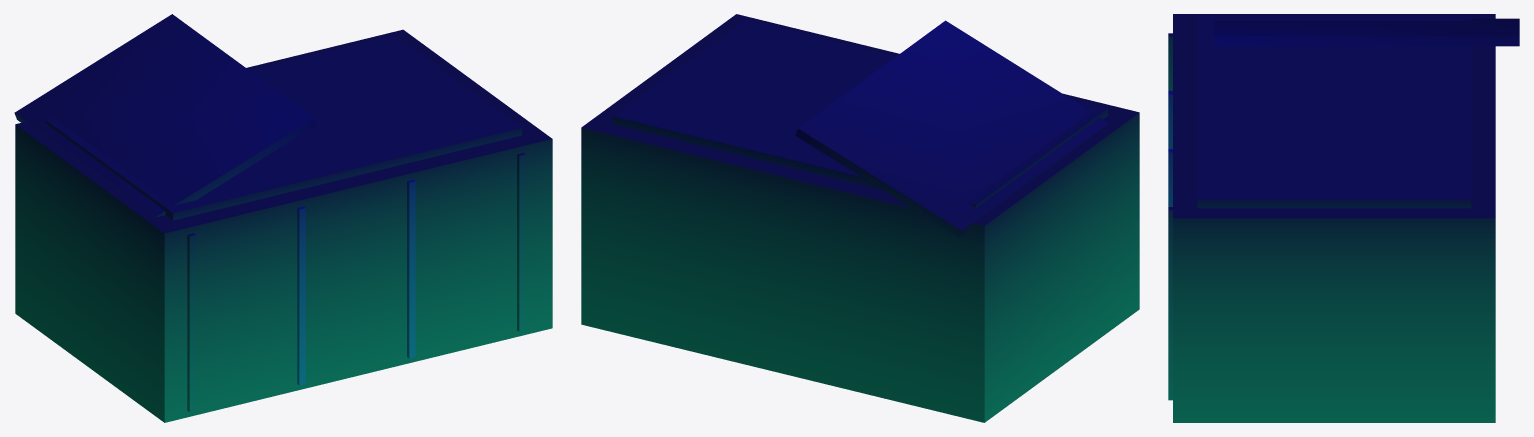
File: dumpster_damaged.glb
3 renders of one model, left to right at view 1: azimuth 30°, elevation 25°; view 2: azimuth 150°, elevation 25°; view 3: azimuth 270°, elevation 25°, orthographic. The views are drawn at different scales.
Parts seen in each view (by area): view 1: lod0; view 2: lod0; view 3: lod0.
Part boxes in pixels (bbox=[...]): lod0: bbox=[14, 14, 552, 422]; lod0: bbox=[581, 14, 1139, 422]; lod0: bbox=[1168, 14, 1519, 422].
Size of what is drawn, in the model's own units: 6 by 3.7 by 4.36.
